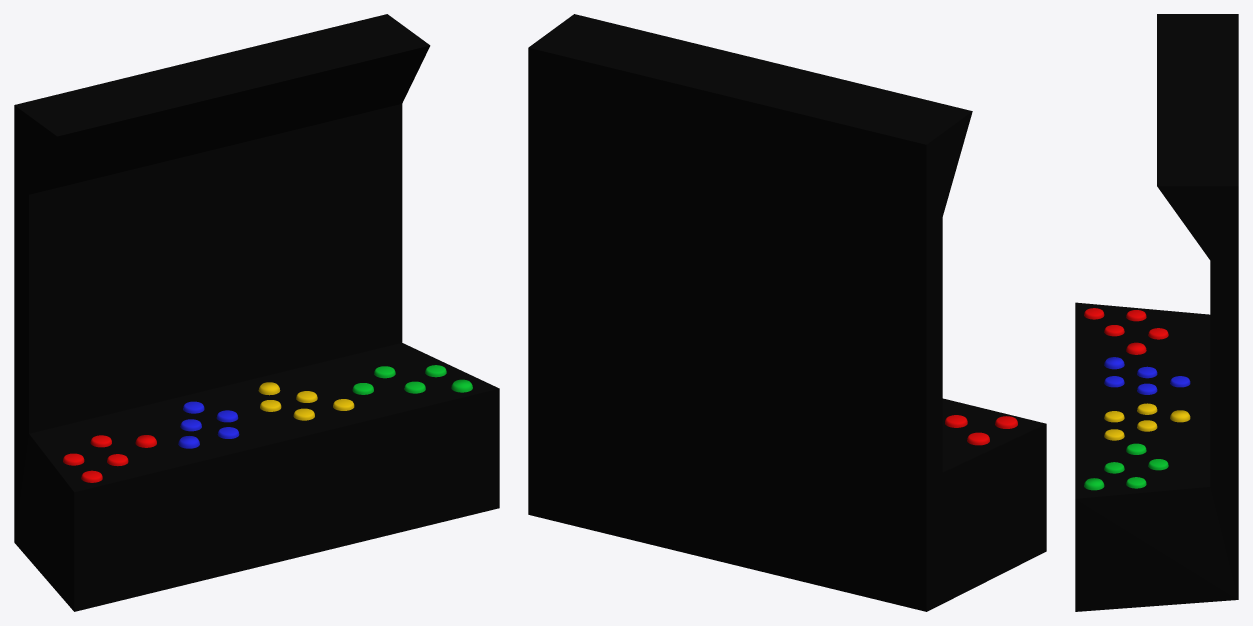
File: Racing Frogs.fbx
The picture shows the model from 3 angles, left to right: view 1: azimuth 30°, elevation 25°; view 2: azimuth 150°, elevation 25°; view 3: azimuth 270°, elevation 25°; orthographic projection. The views are drawn at different scales.
Visible parts, largest first — view 1: Base; view 2: Base; view 3: Base.
Part boxes in pixels (box(x1,y1,x2,y2)): Base: box(14, 14, 499, 611); Base: box(528, 14, 1046, 611); Base: box(1075, 14, 1238, 611).
Bounding box in the file's own units: 570 × 560 × 200.
